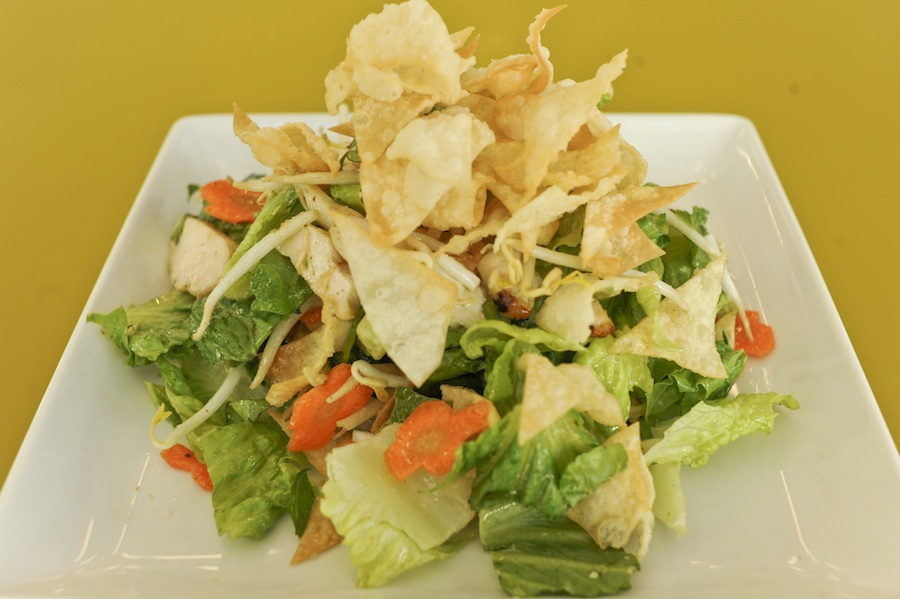chopped lettuce: (131, 307, 757, 568)
